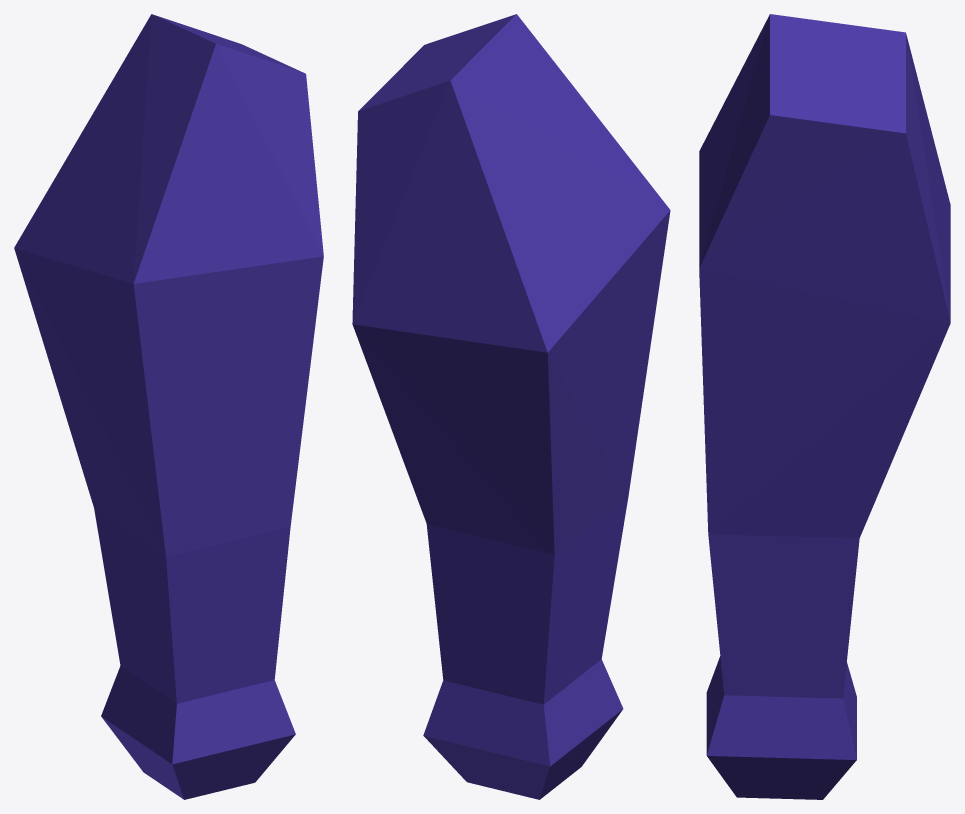
Rendered from right_lower_leg.dae.
The picture shows the model from 3 angles, left to right: view 1: azimuth 30°, elevation 25°; view 2: azimuth 150°, elevation 25°; view 3: azimuth 270°, elevation 25°; orthographic projection. The views are drawn at different scales.
Visible parts, largest first — view 1: right_lower_leg; view 2: right_lower_leg; view 3: right_lower_leg.
Boxes of the visible parts, box(x1,y1,x2,y2) form: right_lower_leg: box(14, 14, 323, 799); right_lower_leg: box(352, 14, 670, 799); right_lower_leg: box(699, 14, 950, 799).
Bounding box in the file's own units: 0.1488 × 0.1495 × 0.5074.
